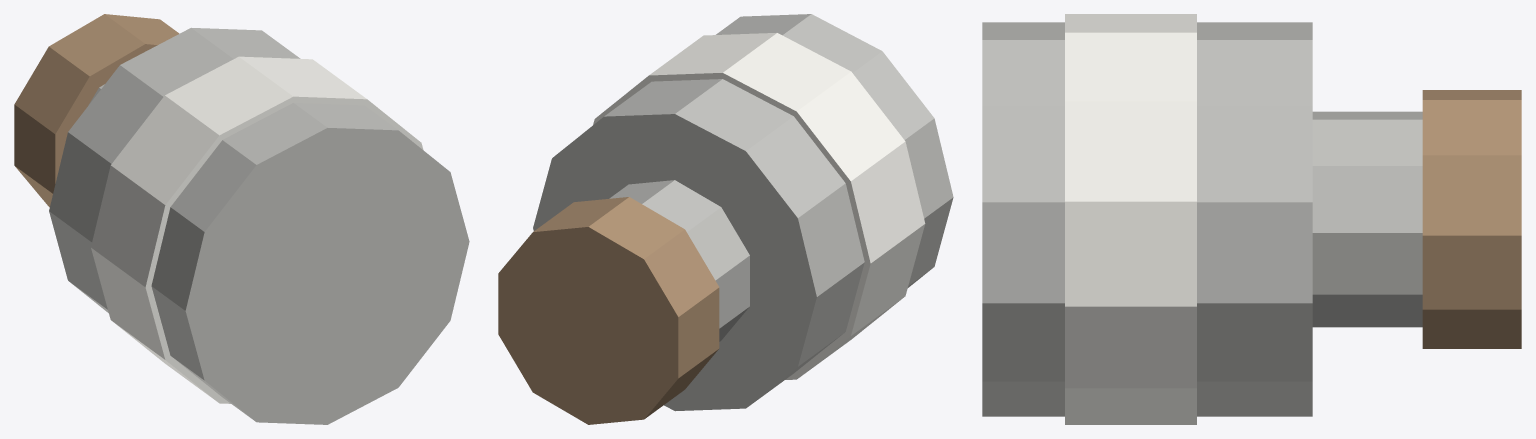
The model's file is light_gray_dye_held.gltf.
The picture shows the model from 3 angles, left to right: view 1: azimuth 30°, elevation 25°; view 2: azimuth 150°, elevation 25°; view 3: azimuth 270°, elevation 25°; orthographic projection. The views are drawn at different scales.
Visible parts, largest first — view 1: colors_light_gray_dye_held; view 2: colors_light_gray_dye_held; view 3: colors_light_gray_dye_held.
Part boxes in pixels (bbox=[...]): colors_light_gray_dye_held: bbox=[14, 14, 469, 424]; colors_light_gray_dye_held: bbox=[498, 14, 953, 424]; colors_light_gray_dye_held: bbox=[982, 14, 1521, 424].
Bounding box in the file's own units: 0.075 × 0.075 × 0.098.
